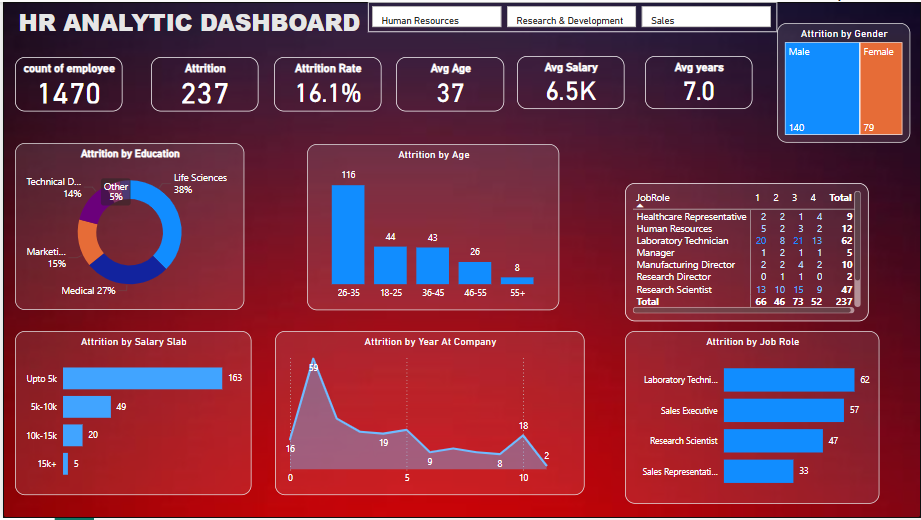

This screenshot's page, from the dashboard's own definition file:
{"tool":"powerbi","page":{"name":"Page 1","canvas":[1280,720],"ordinal":0},"visuals":[{"type":"card","title":"count of  employee","fields":{"Values":["CountNonNull(HR_Analytics (1).EmpID)"]},"box":[17.2,77.4,149.7,75.7],"z":0},{"type":"card","title":"Attrition","fields":{"Values":["Sum(HR_Analytics (1).AttritionCount)"]},"box":[206.5,77.4,149.7,75.7],"z":1000},{"type":"card","title":"Attrition Rate","fields":{"Values":["HR_Analytics (1).AttritionRate"]},"box":[378.5,77.4,149.7,75.7],"z":2000},{"type":"card","title":"Avg Age","fields":{"Values":["Avg(HR_Analytics (1).Age)"]},"box":[548.8,77.4,151.4,75.7],"z":3000},{"type":"card","title":"Avg Salary","fields":{"Values":["Avg(HR_Analytics (1).MonthlyIncome)"]},"box":[717.4,75.7,149.7,74],"z":4000},{"type":"card","title":"Avg years","fields":{"Values":["Avg(HR_Analytics (1).YearsAtCompany)"]},"box":[896.3,75.7,149.7,74],"z":5000},{"type":"donutChart","title":" Attrition by Education","fields":{"Category":["HR_Analytics (1).EducationField"],"Y":["Sum(HR_Analytics (1).AttritionCount)"]},"box":[16.8,196.5,320,233],"z":6000},{"type":"columnChart","title":" Attrition by Age","fields":{"Category":["HR_Analytics (1).AgeGroup"],"Y":["Sum(HR_Analytics (1).AttritionCount)"]},"box":[423.9,197.9,352.3,231.6],"z":7000},{"type":"pivotTable","fields":{"Rows":["HR_Analytics (1).JobRole"],"Columns":["HR_Analytics (1).JobSatisfaction"],"Values":["Sum(HR_Analytics (1).AttritionCount)"]},"box":[867.9,252.6,340.5,192.6],"z":8000},{"type":"barChart","title":" Attrition by Salary Slab","fields":{"Category":["HR_Analytics (1).SalarySlab"],"Y":["Sum(HR_Analytics (1).AttritionCount)"]},"box":[16.8,458.9,329.8,228.8],"z":9000},{"type":"barChart","title":" Attrition by Job Role","fields":{"Y":["Sum(HR_Analytics (1).AttritionCount)"],"Category":["HR_Analytics (1).JobRole"]},"box":[867.4,458.9,355.1,241.4],"z":10000},{"type":"areaChart","title":" Attrition by Year At Company","fields":{"Category":["HR_Analytics (1).YearsAtCompany"],"Y":["Sum(HR_Analytics (1).AttritionCount)"]},"box":[378.9,458.9,432.3,228.8],"z":11000},{"type":"treemap","title":" Attrition by Gender","fields":{"Group":["HR_Analytics (1).Gender"],"Values":["Sum(HR_Analytics (1).AttritionCount)"]},"box":[1080.4,29.2,185.8,166.9],"z":12000},{"type":"advancedSlicerVisual","fields":{"Values":["HR_Analytics (1).Department"]},"box":[509.3,0,570.7,41.9],"z":13000},{"type":"textbox","box":[16.7,0,490,56],"z":14000}]}

Visuals, with their boxes in screenshot pixels (x1, y1, x2, y2), scaled from the page's 1280x720 canvas onto the 921x520 screenshot:
"count of  employee" card: 12/56/120/111
"Attrition" card: 149/56/256/111
"Attrition Rate" card: 272/56/380/111
"Avg Age" card: 395/56/504/111
"Avg Salary" card: 516/55/624/108
"Avg years" card: 645/55/753/108
" Attrition by Education" donutChart: 12/142/242/310
" Attrition by Age" columnChart: 305/143/559/310
pivotTable - HR_Analytics (1).JobRole x HR_Analytics (1).JobSatisfaction: 624/182/869/322
" Attrition by Salary Slab" barChart: 12/331/249/497
" Attrition by Job Role" barChart: 624/331/880/506
" Attrition by Year At Company" areaChart: 273/331/584/497
" Attrition by Gender" treemap: 777/21/911/142
advancedSlicerVisual - HR_Analytics (1).Department: 366/0/777/30
textbox: 12/0/365/40
